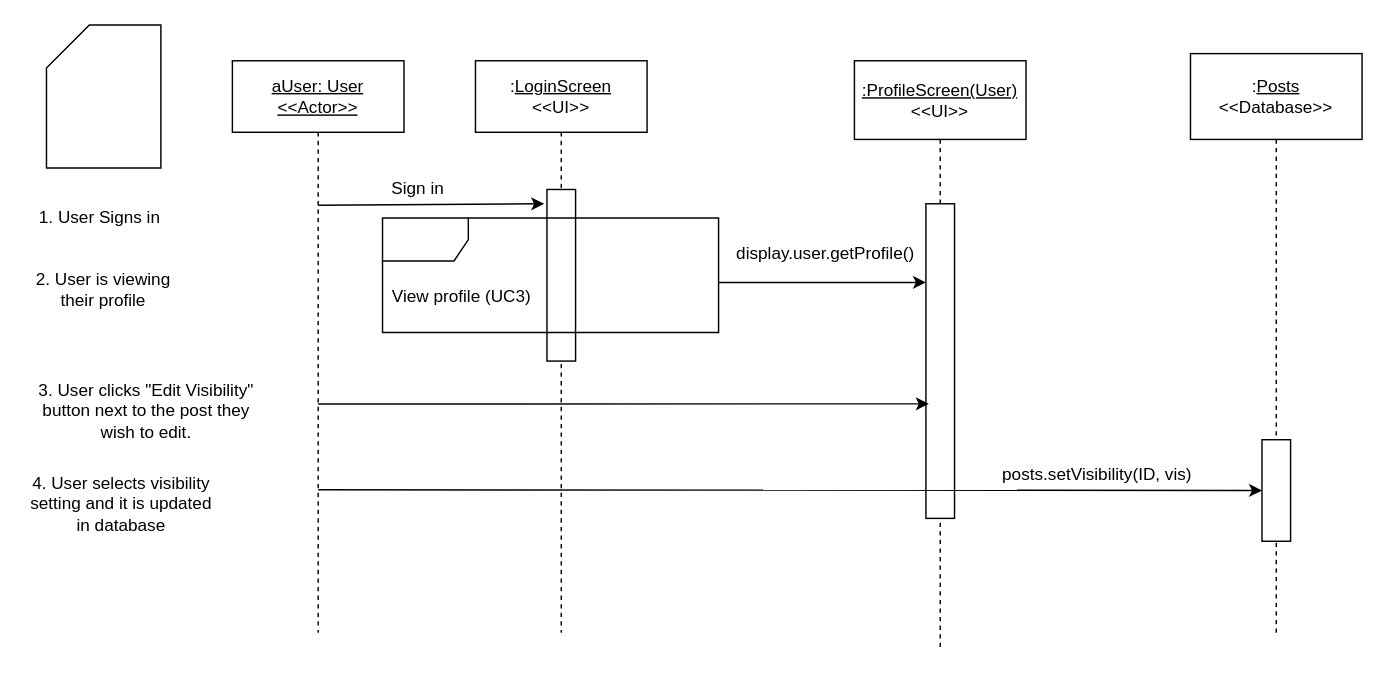
Image size: 1387x674. Some labels were removed from this diagram. Each missing label, with the centre of its shape:
ref: pixel 550 274
Use Case For Edit Visibility of a Post UC8: pixel 103 96
